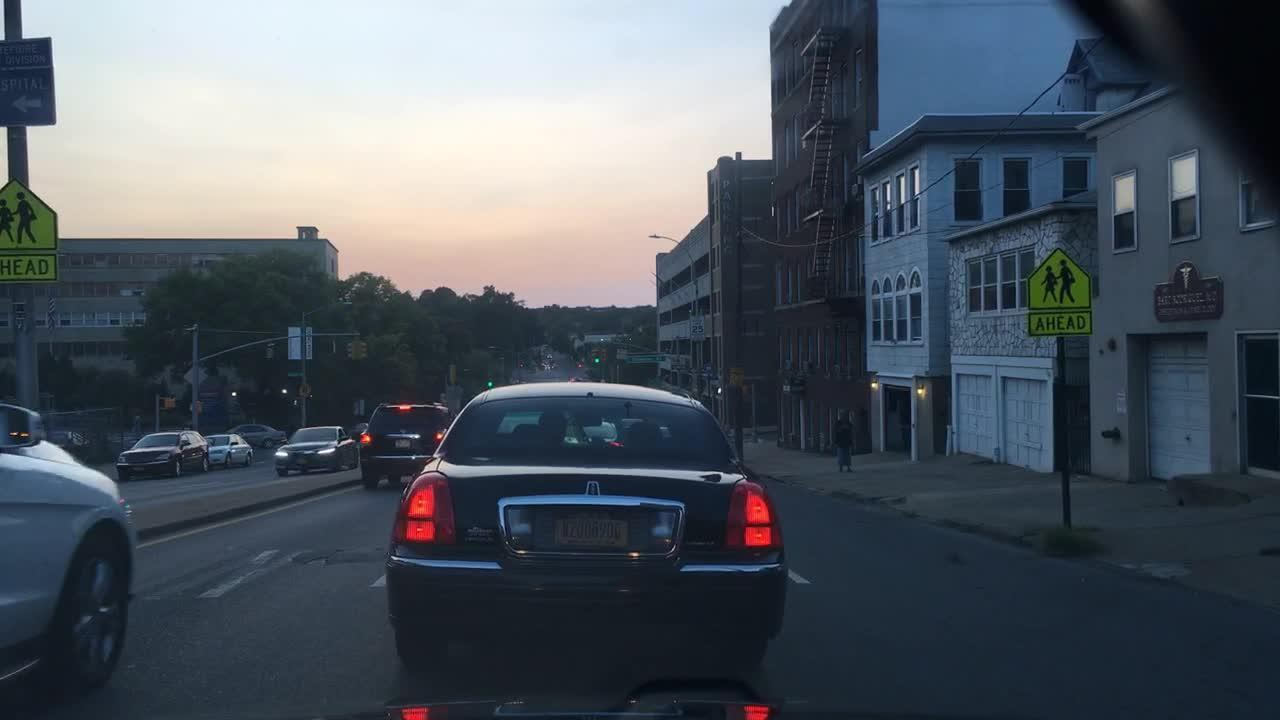lincoln: (583, 478, 607, 500)
